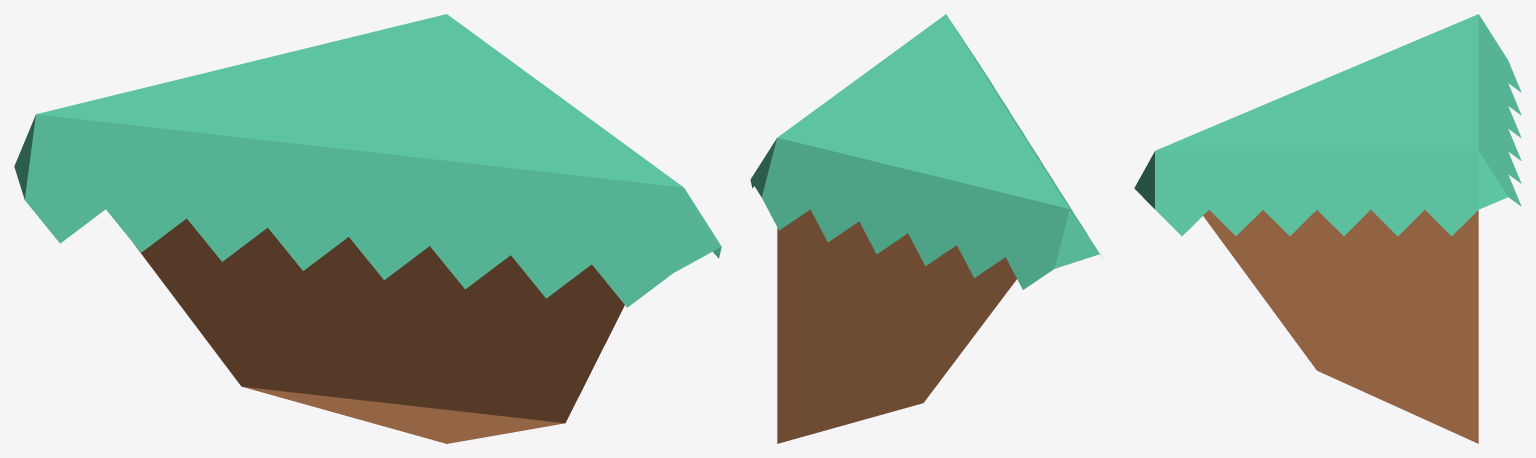
The model's file is blockCliffCorner.fbx.
3 renders of one model, left to right at view 1: azimuth 30°, elevation 25°; view 2: azimuth 150°, elevation 25°; view 3: azimuth 270°, elevation 25°, orthographic. The views are drawn at different scales.
Parts seen in each view (by area): view 1: blockCliffCorner; view 2: blockCliffCorner; view 3: blockCliffCorner.
Part boxes in pixels (x1,y1,x2,y2): blockCliffCorner: (14,14,721,443); blockCliffCorner: (750,14,1102,443); blockCliffCorner: (1134,14,1521,443).
Size of the model in its own units: 11.98 by 10 by 11.98.
